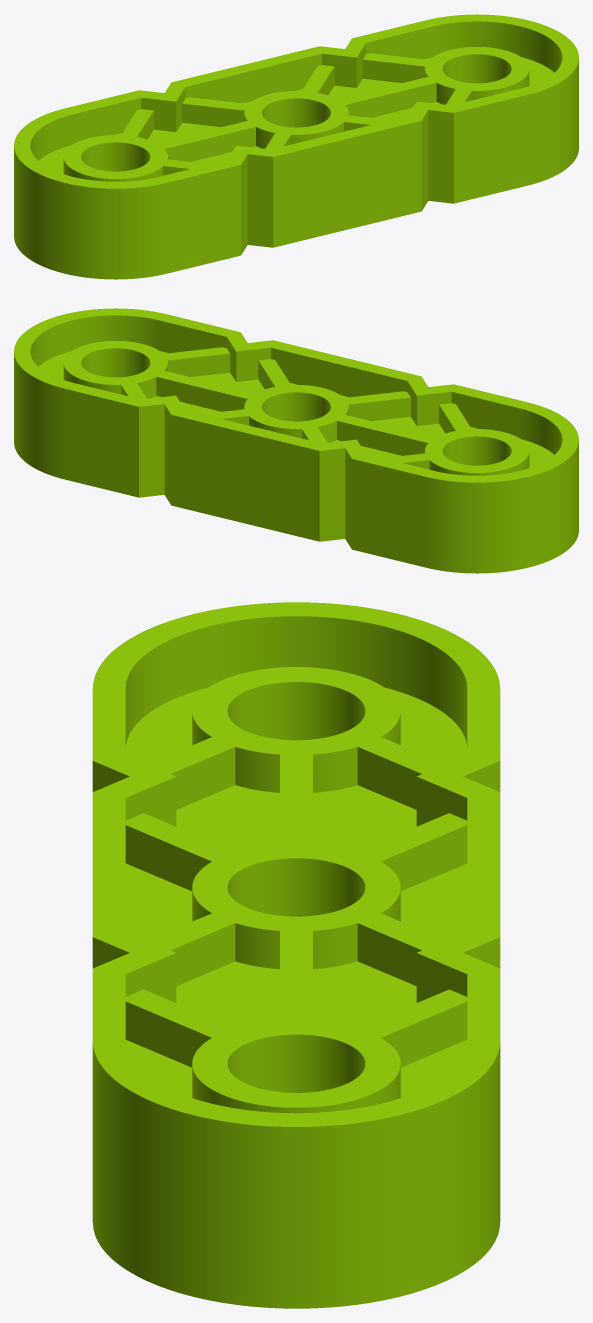
3 renders of one model, top to bottom at view 1: azimuth 30°, elevation 25°; view 2: azimuth 150°, elevation 25°; view 3: azimuth 270°, elevation 25°, orthographic. The views are drawn at different scales.
Parts seen in each view (by area): view 1: 228-2500-002; view 2: 228-2500-002; view 3: 228-2500-002.
Boxes of the visible parts, left/top/right/bottom form: 228-2500-002: left=14, top=14, right=578, bottom=279; 228-2500-002: left=14, top=308, right=578, bottom=573; 228-2500-002: left=92, top=602, right=500, bottom=1308.
Size of the model in its own units: 0.0378 by 0.0061 by 0.0124.
